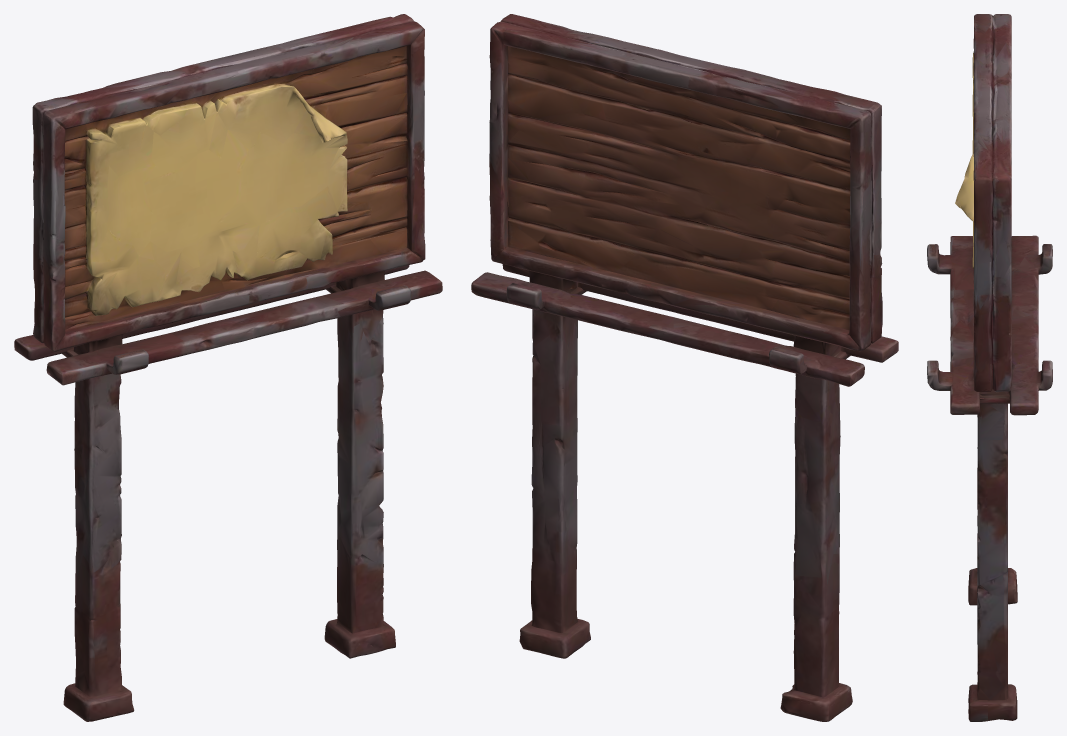
File: decor_sign_weathered_idle.glb
3 renders of one model, left to right at view 1: azimuth 30°, elevation 25°; view 2: azimuth 150°, elevation 25°; view 3: azimuth 270°, elevation 25°, orthographic. The views are drawn at different scales.
Parts seen in each view (by area): view 1: tripo_node_1fc83887-7920-406a-bdda-2df993908b98; view 2: tripo_node_1fc83887-7920-406a-bdda-2df993908b98; view 3: tripo_node_1fc83887-7920-406a-bdda-2df993908b98.
Part boxes in pixels (x1=…): tripo_node_1fc83887-7920-406a-bdda-2df993908b98: x1=14, y1=14, x2=442, y2=721; tripo_node_1fc83887-7920-406a-bdda-2df993908b98: x1=471, y1=14, x2=898, y2=721; tripo_node_1fc83887-7920-406a-bdda-2df993908b98: x1=927, y1=14, x2=1052, y2=721.
Bounding box in the file's own units: 1.17 × 1.8 × 0.3678.
Materials: 1 (1 with a texture image).
